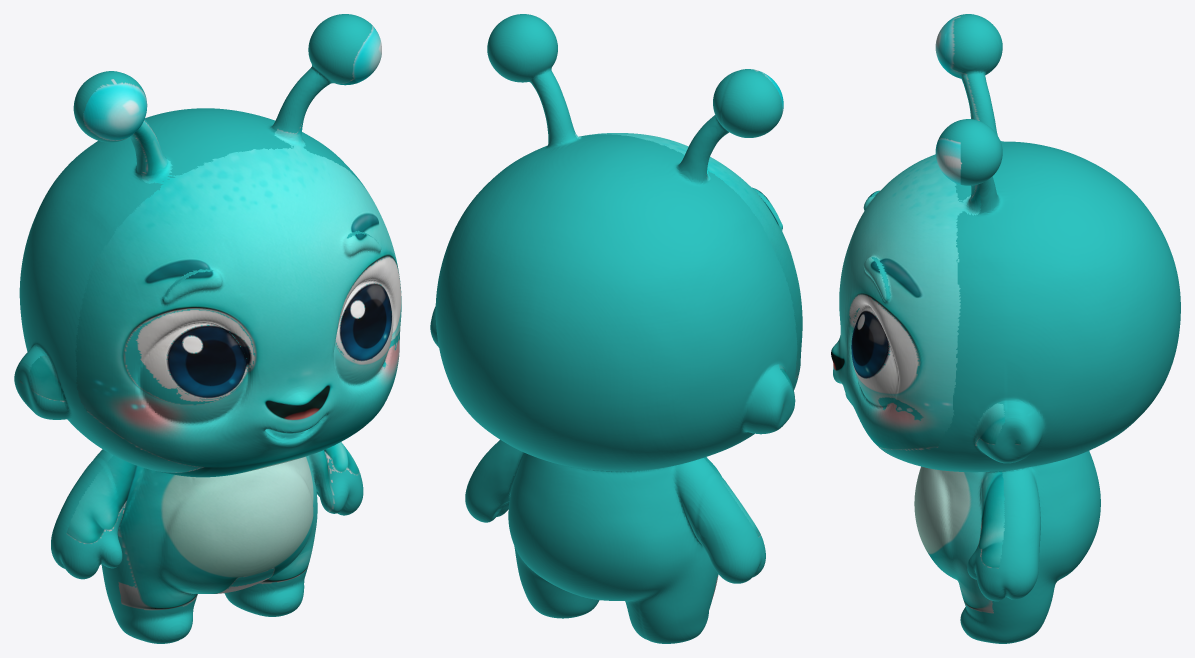
The model's file is zubi.glb.
The picture shows the model from 3 angles, left to right: view 1: azimuth 30°, elevation 25°; view 2: azimuth 150°, elevation 25°; view 3: azimuth 270°, elevation 25°; orthographic projection. The views are drawn at different scales.
Parts seen in each view (by area): view 1: Zubi; view 2: Zubi; view 3: Zubi.
Boxes of the visible parts, <box> form: Zubi: <box>14,14,401,643</box>; Zubi: <box>430,14,802,643</box>; Zubi: <box>831,14,1180,643</box>.
Bounding box in the file's own units: 1.28 × 1.97 × 1.16.
2 materials, 1 textured.
